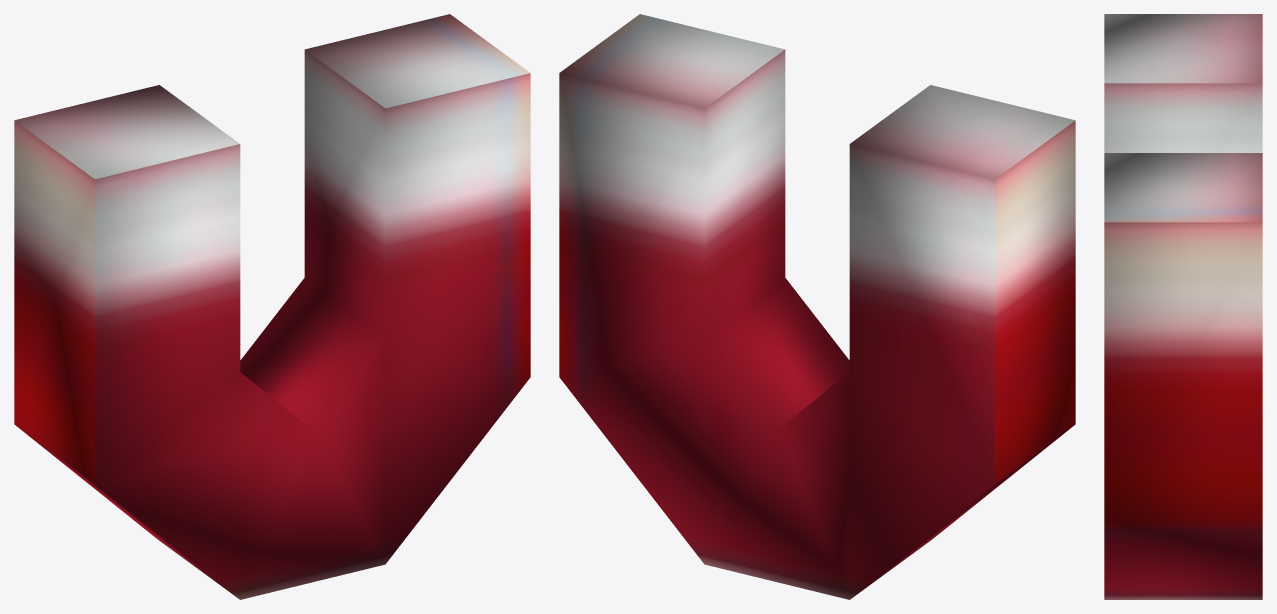
The model's file is magnet.glb.
3 renders of one model, left to right at view 1: azimuth 30°, elevation 25°; view 2: azimuth 150°, elevation 25°; view 3: azimuth 270°, elevation 25°, orthographic. The views are drawn at different scales.
Visible parts, largest first — view 1: magnet; view 2: magnet; view 3: magnet.
Boxes of the visible parts, bbox=[...] form: magnet: bbox=[14, 14, 530, 599]; magnet: bbox=[559, 14, 1075, 599]; magnet: bbox=[1104, 14, 1262, 599].
Bounding box in the file's own units: 1.5 × 1.5 × 0.4813.
1 material, 1 textured.
